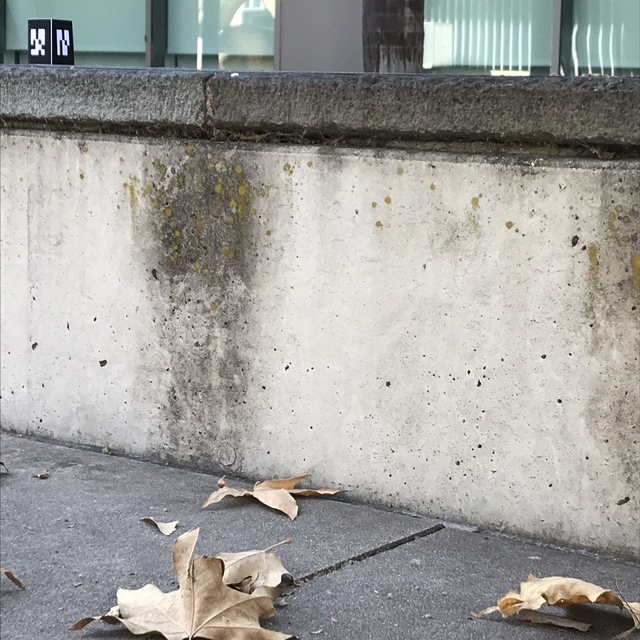ARTag: (27, 17, 76, 66)
